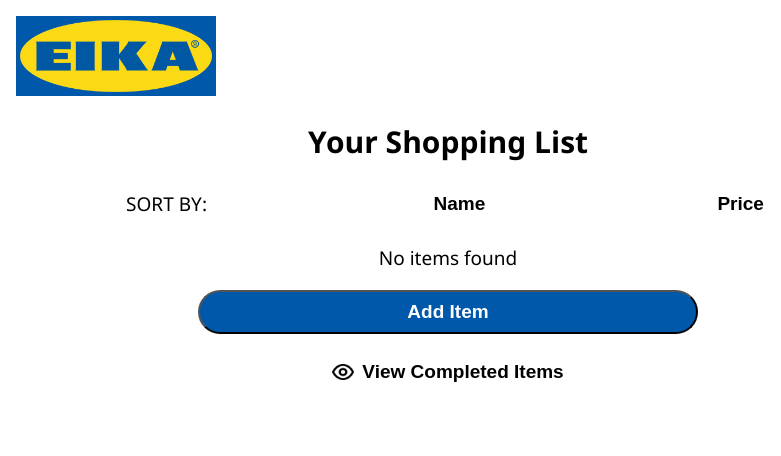
Click on the 'View completed items' button leads to a second TaskItem component render
What coordinates should you click on to do the following:
click the button "View Completed Items"
I would click on:
 (448, 372)
Its box is [326,350,570,394].
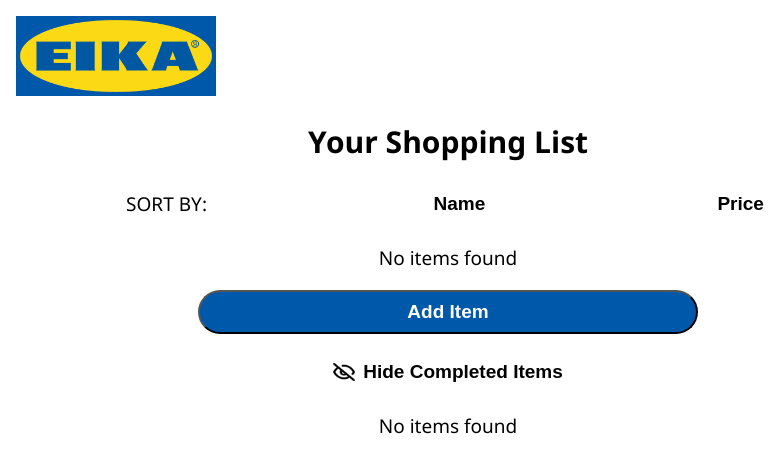
expect the text "No items found" is shown 2 times: met, box [379,245,517,271]; [379,413,517,439]
